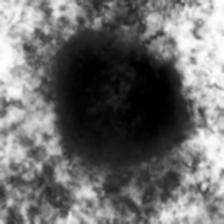Potentially Malignant Skin Tumors: (61, 42, 178, 157)
